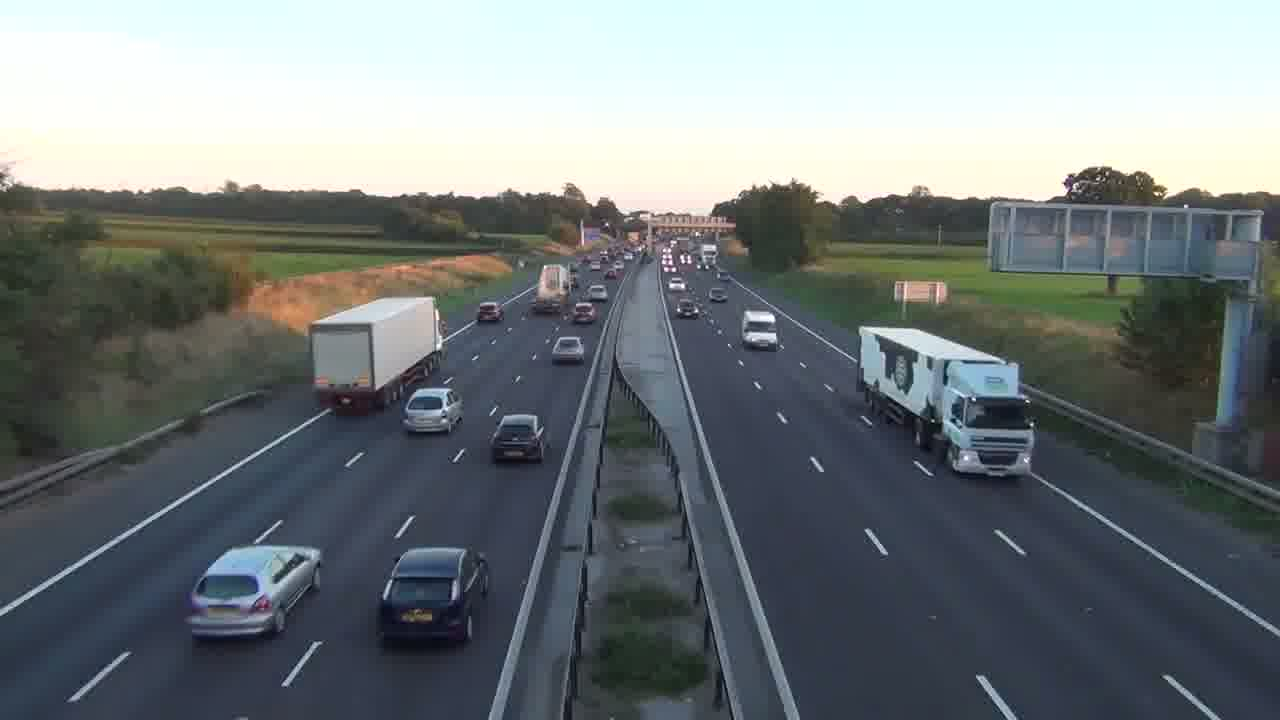car: (185, 543, 323, 641), (376, 545, 493, 646), (401, 385, 464, 435), (490, 413, 548, 463), (740, 310, 782, 351), (551, 336, 584, 365), (572, 301, 597, 324)
truck: (858, 324, 1038, 478), (308, 296, 443, 416), (533, 263, 576, 315), (740, 310, 782, 351)
